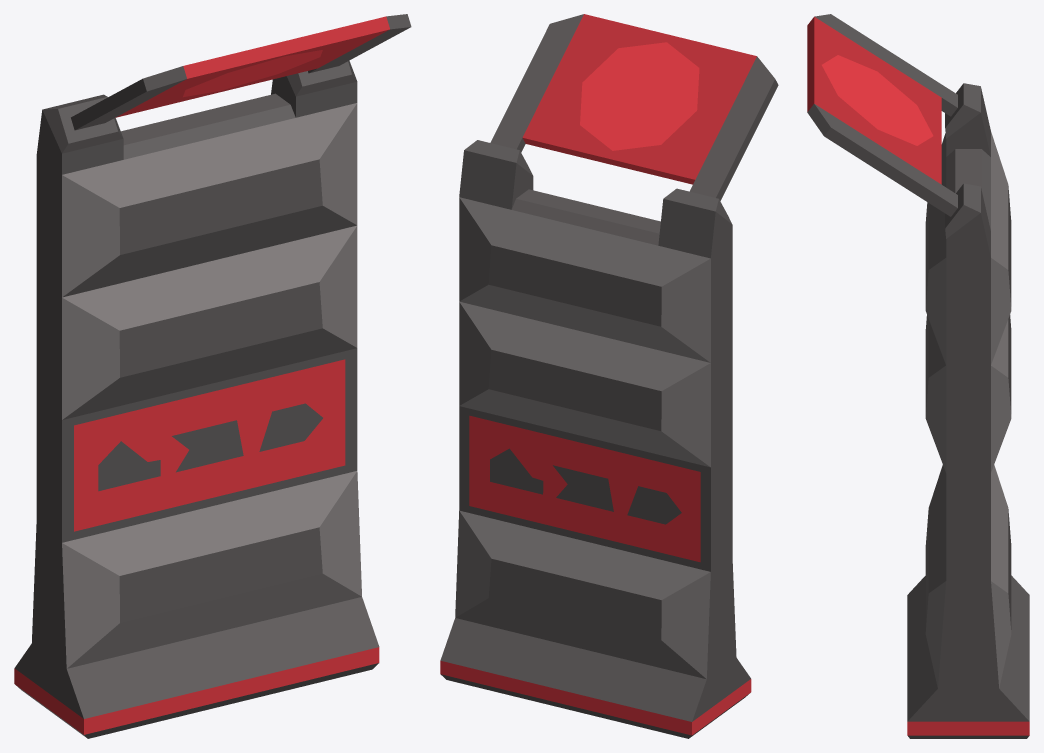
File: scifi-barrier-large-hologram.fbx
3 views of the same model, side by side, from view 1: azimuth 30°, elevation 25°; view 2: azimuth 150°, elevation 25°; view 3: azimuth 270°, elevation 25° (orthographic). The views are drawn at different scales.
Parts seen in each view (by area): view 1: scifi-barrier-large-hologram; view 2: scifi-barrier-large-hologram; view 3: scifi-barrier-large-hologram.
Part boxes in pixels (<box>): scifi-barrier-large-hologram: <box>14,14,411,738</box>; scifi-barrier-large-hologram: <box>440,14,778,738</box>; scifi-barrier-large-hologram: <box>807,14,1029,738</box>.
Bounding box in the file's own units: 2.01 × 4.57 × 1.49.
